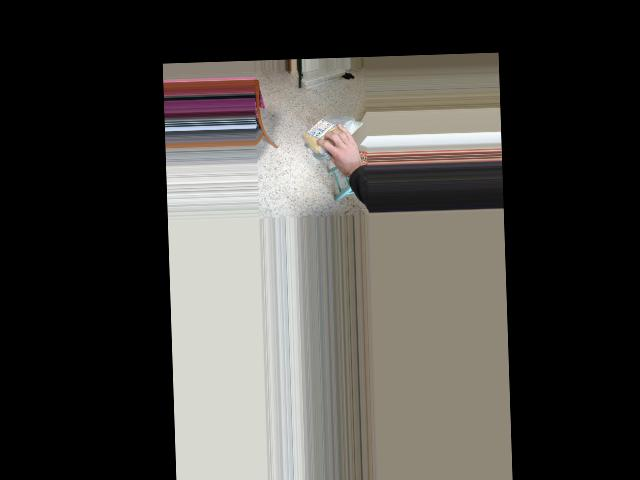cheese: (294, 117, 364, 149)
